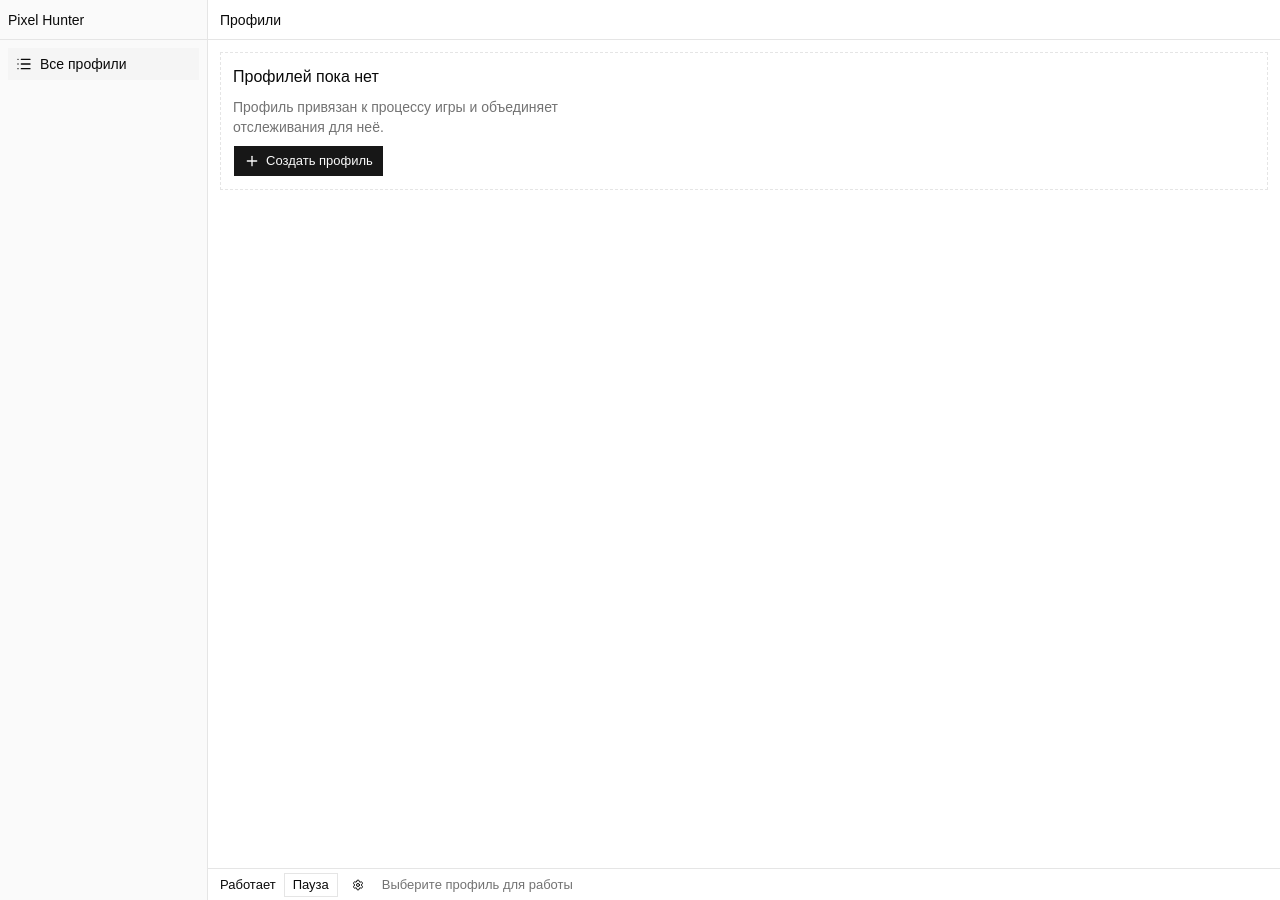
work pause › restores the hotkey when the dialog closes during preparation
Click the button named "Настроить паузу": click(358, 884) [346,872,370,896]
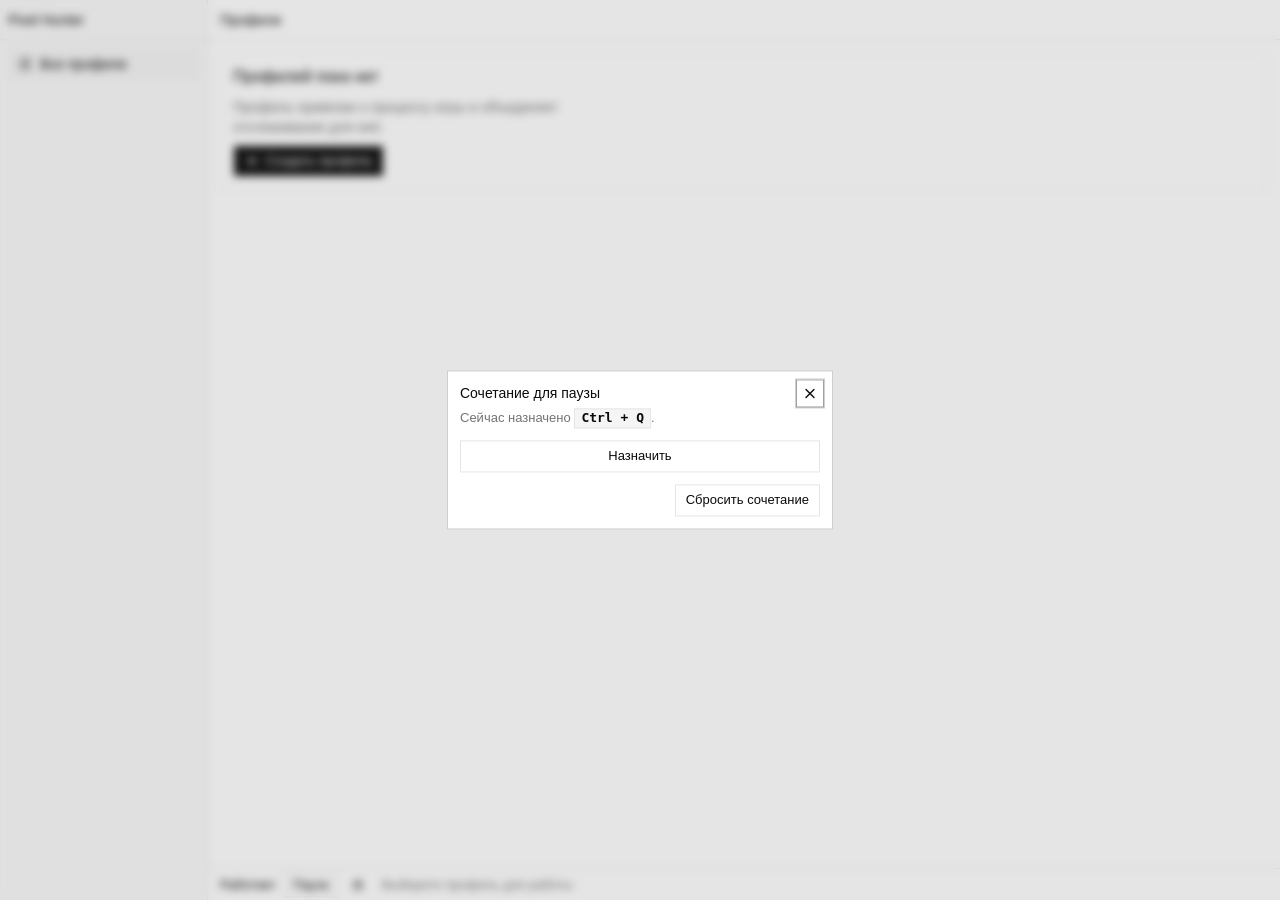
Click the button "Назначить": click(640, 457) [460,441,820,473]
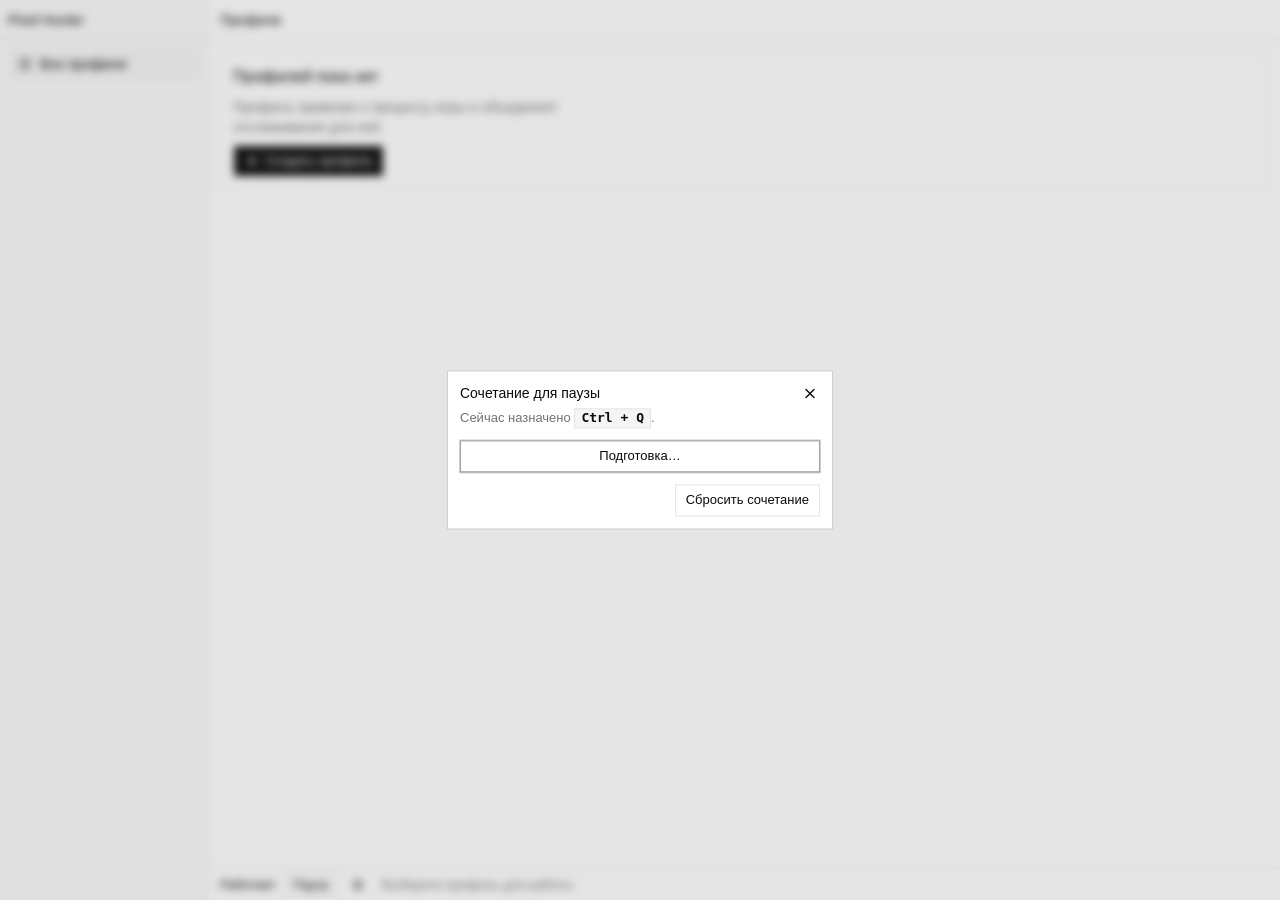
Click the button named "Закрыть": click(810, 393) [796,379,824,407]
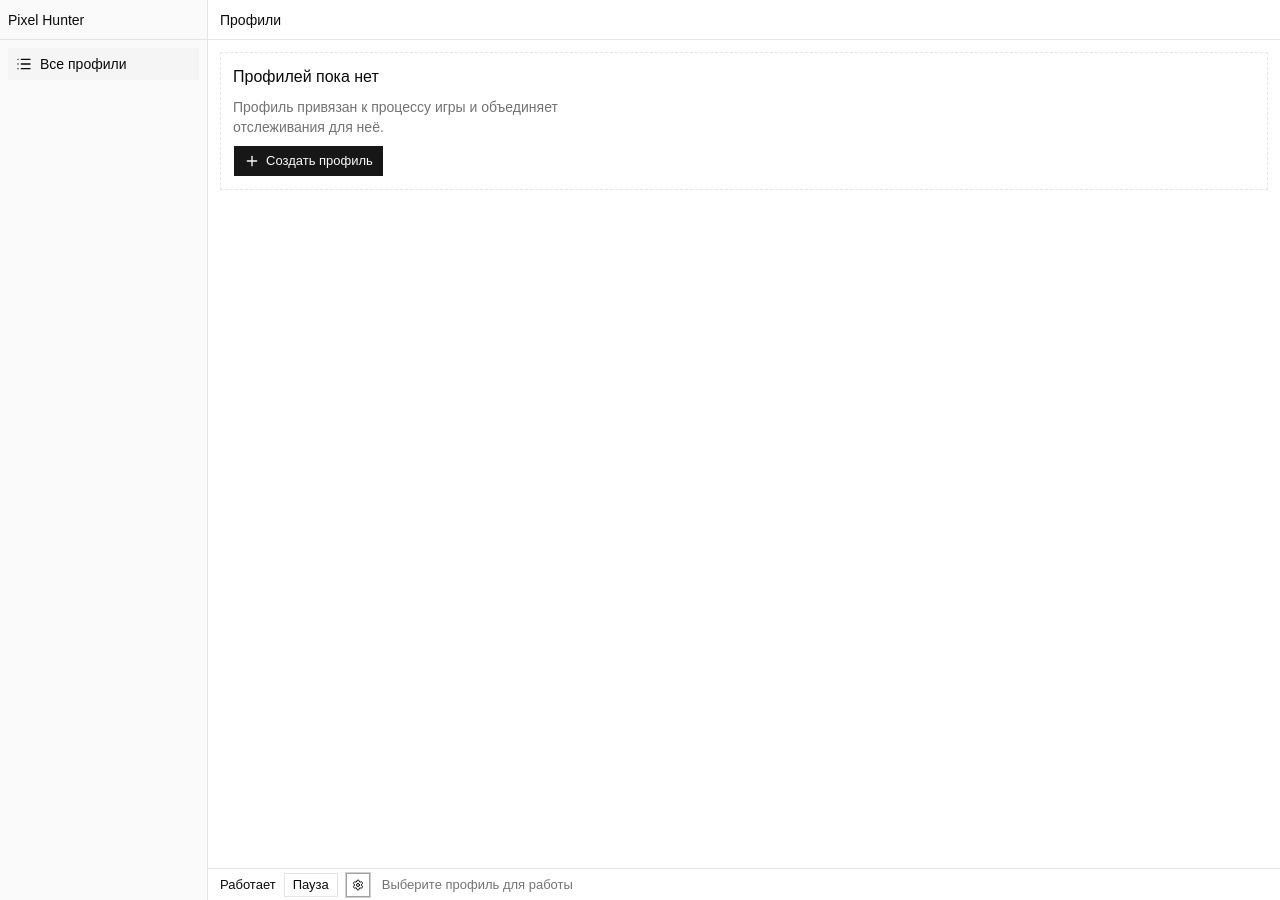
Now the dialog is gone
